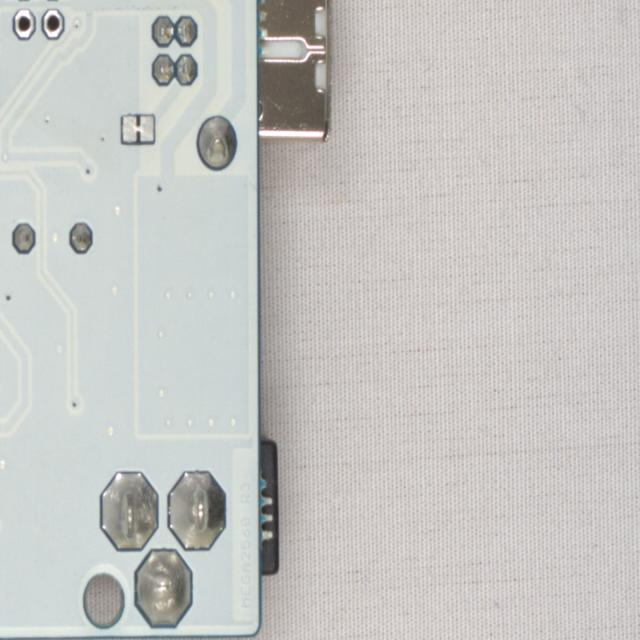connector: (254, 0, 331, 139), (6, 8, 68, 45)
pads: (118, 110, 156, 144)
pins: (96, 467, 232, 632), (196, 0, 238, 172), (146, 12, 203, 96), (6, 220, 95, 257), (5, 0, 73, 3)
